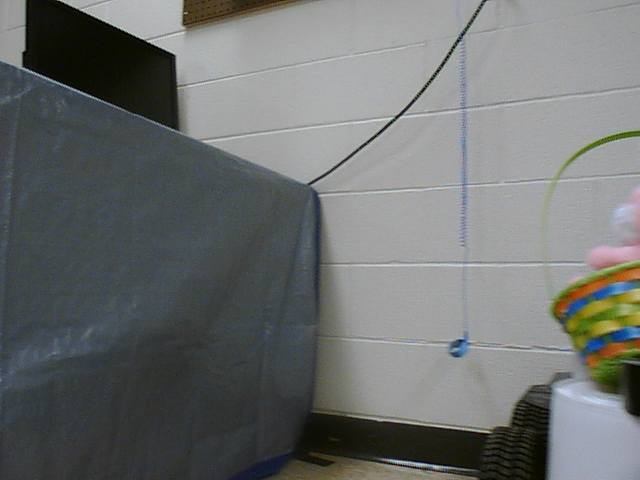bunny: (527, 118, 640, 394)
